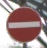No entry: (5, 6, 42, 43)
